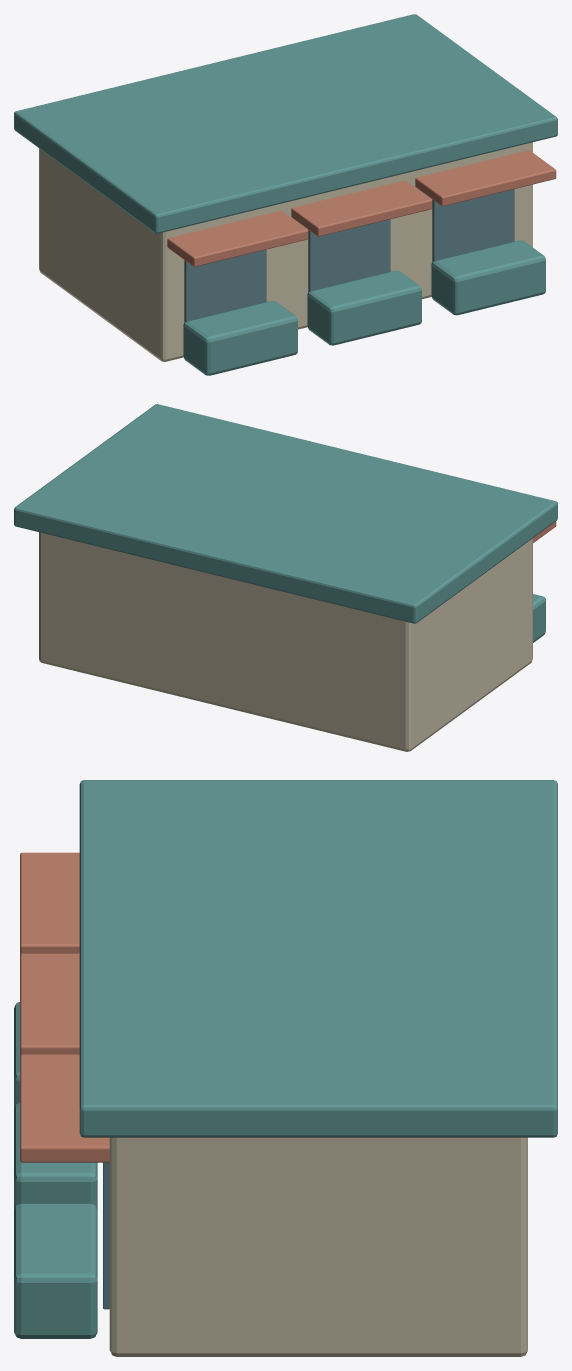
The model's file is prop_market_hall.glb.
The picture shows the model from 3 angles, top to bottom: view 1: azimuth 30°, elevation 25°; view 2: azimuth 150°, elevation 25°; view 3: azimuth 270°, elevation 25°; orthographic projection. The views are drawn at different scales.
Parts seen in each view (by area): view 1: scenery_teal, scenery_cream, scenery_glass, scenery_coral; view 2: scenery_teal, scenery_cream; view 3: scenery_teal, scenery_cream, scenery_coral, scenery_glass.
Part boxes in pixels (<box>): scenery_teal: <box>14,14,557,375</box>; scenery_cream: <box>39,142,532,361</box>; scenery_glass: <box>184,189,514,322</box>; scenery_coral: <box>167,150,556,266</box>; scenery_teal: <box>14,404,557,642</box>; scenery_cream: <box>39,532,532,751</box>; scenery_teal: <box>14,780,557,1338</box>; scenery_cream: <box>109,1137,527,1356</box>; scenery_coral: <box>20,852,109,1162</box>; scenery_glass: <box>103,1162,109,1309</box>.
Size of the model in its own units: 13 by 4.9 by 9.1.
